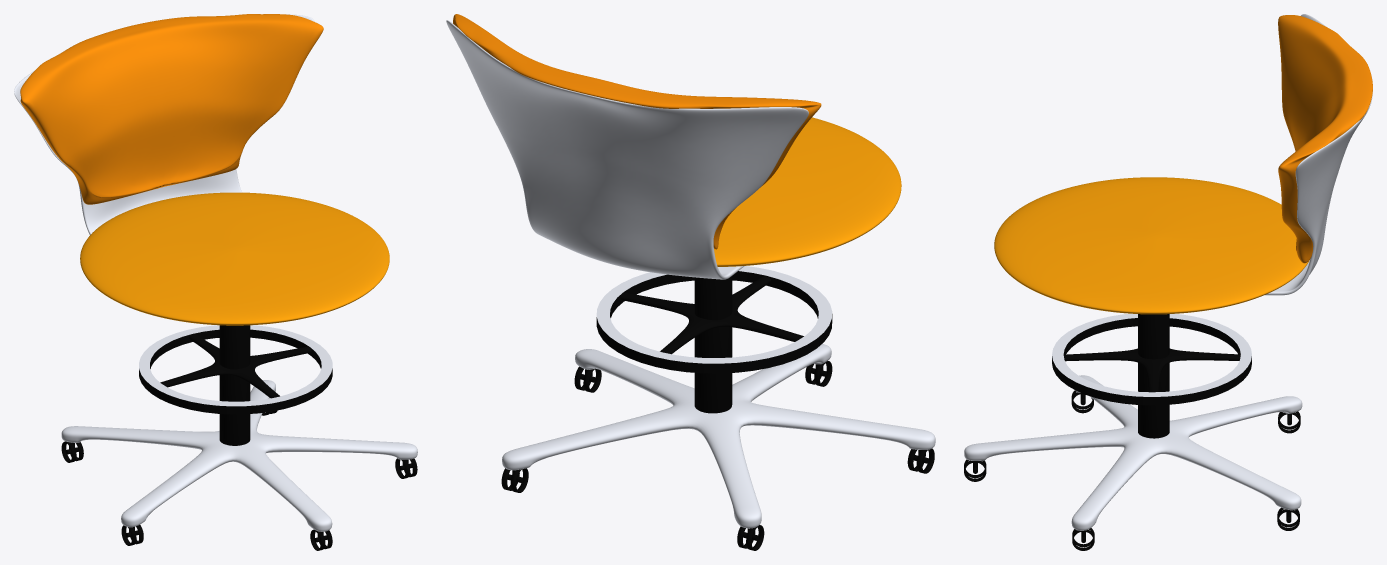
The model's file is subchair.glb.
The picture shows the model from 3 angles, left to right: view 1: azimuth 30°, elevation 25°; view 2: azimuth 150°, elevation 25°; view 3: azimuth 270°, elevation 25°; orthographic projection. The views are drawn at different scales.
Parts seen in each view (by area): view 1: Cube.004, Cylinder.002, Cube, Cylinder.001, Cube.003, Cylinder, Cube.001; view 2: Cube.003, Cylinder.002, Cube, Cylinder.001, Cube.004, Cylinder, Cube.001; view 3: Cylinder.002, Cube.004, Cube, Cylinder.001, Cube.003, Cylinder, Cube.001.
Part boxes in pixels (box(x1,y1,x2,y2)): Cube.004: box(20, 14, 323, 204); Cylinder.002: box(80, 192, 389, 325); Cube: box(61, 380, 417, 531); Cylinder.001: box(139, 325, 332, 414); Cube.003: box(14, 14, 314, 234); Cylinder: box(219, 325, 250, 445); Cube.001: box(160, 334, 311, 398); Cube.003: box(446, 20, 808, 279); Cylinder.002: box(714, 117, 901, 266); Cube: box(502, 344, 935, 528); Cylinder.001: box(596, 266, 832, 373); Cube.004: box(453, 14, 821, 249); Cylinder: box(694, 276, 732, 413); Cube.001: box(620, 276, 803, 354); Cylinder.002: box(994, 177, 1309, 314); Cube.004: box(1278, 15, 1372, 263); Cube: box(964, 375, 1302, 530); Cylinder.001: box(1052, 313, 1251, 405); Cube.003: box(1264, 14, 1372, 295); Cylinder: box(1138, 314, 1169, 438); Cube.001: box(1063, 348, 1240, 392).
Bounding box in the file's own units: 3.55 × 4.31 × 4.04.
